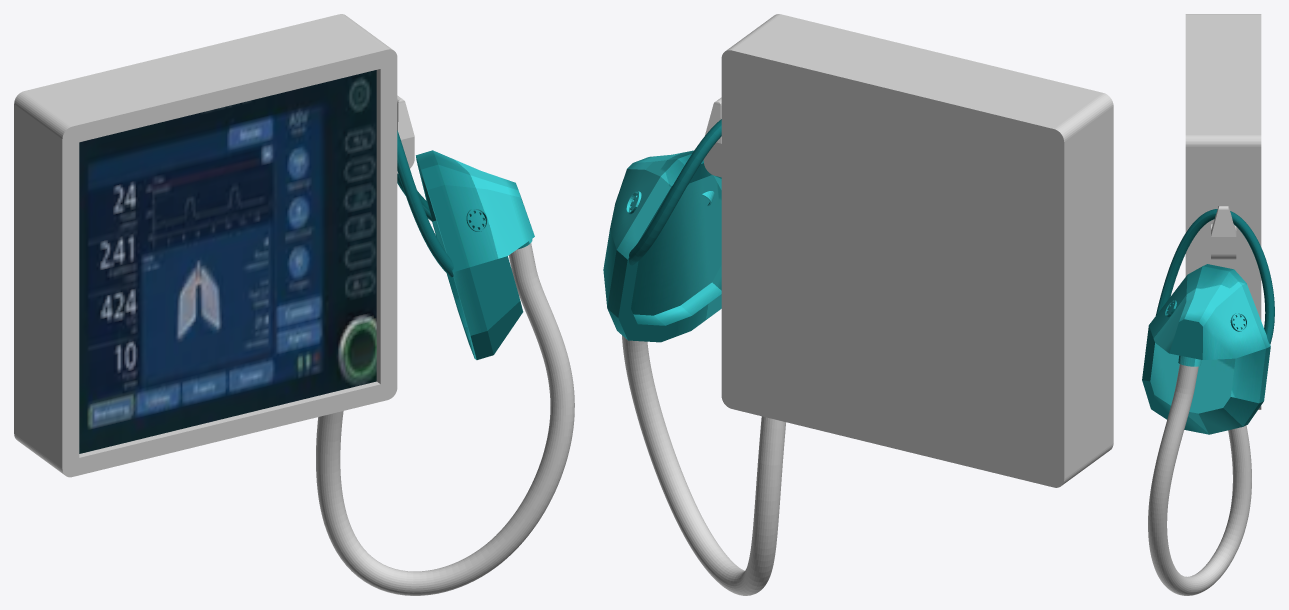
The model's file is wall_oxygen.glb.
3 renders of one model, left to right at view 1: azimuth 30°, elevation 25°; view 2: azimuth 150°, elevation 25°; view 3: azimuth 270°, elevation 25°, orthographic. The views are drawn at different scales.
Parts seen in each view (by area): view 1: monitor, Tablet, Cylinder.007, Cylinder.001, Cylinder.006; view 2: Tablet, Cylinder.001, Cylinder.007, Cylinder.006; view 3: Tablet, Cylinder.001, Cylinder.007, Cylinder.006.
Part boxes in pixels (x1,y1,x2,y2): monitor: (79,70,376,453); Tablet: (14,14,414,477); Cylinder.007: (316,243,574,595); Cylinder.001: (416,150,534,359); Cylinder.006: (397,130,453,277); Tablet: (703,14,1113,487); Cylinder.001: (603,150,721,342); Cylinder.007: (622,335,785,595); Cylinder.006: (629,119,721,265); Tablet: (1185,14,1261,409); Cylinder.001: (1142,264,1270,434); Cylinder.007: (1148,364,1251,595); Cylinder.006: (1155,209,1274,344).
Size of the model in its own units: 2.95 by 3.21 by 0.879.
Materials: 3 (2 with a texture image).
